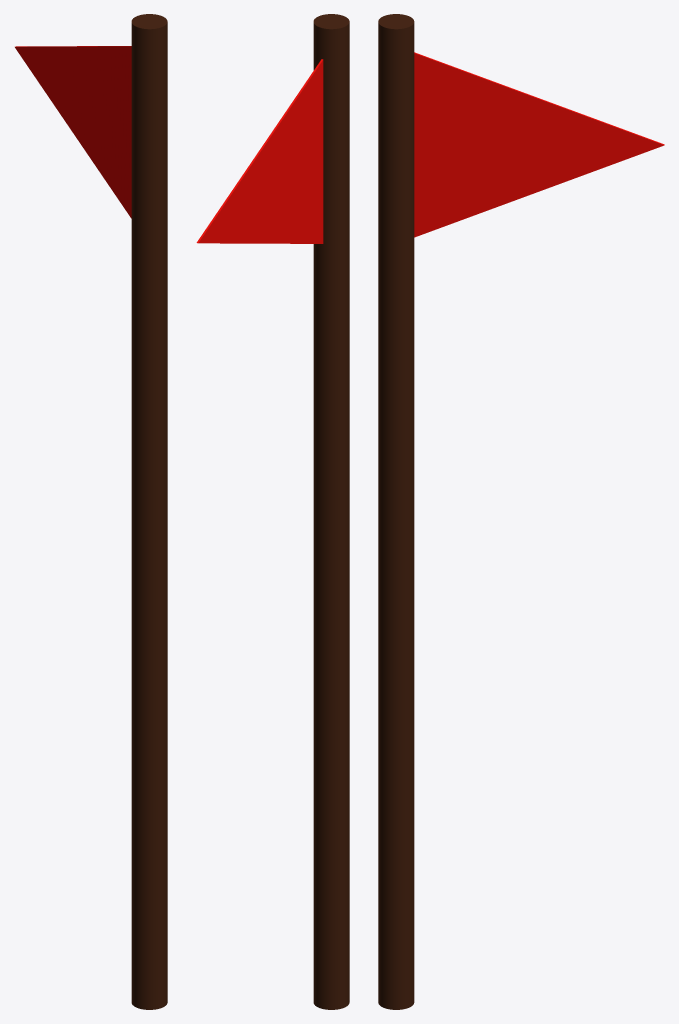
File: flag.fbx
The picture shows the model from 3 angles, left to right: view 1: azimuth 30°, elevation 25°; view 2: azimuth 150°, elevation 25°; view 3: azimuth 270°, elevation 25°; orthographic projection.
Visible parts, largest first — view 1: Cylinder, Cube; view 2: Cylinder, Cube; view 3: Cylinder, Cube.
Part boxes in pixels (x1,y1,x2,y2): Cylinder: (131, 14, 167, 1009); Cube: (15, 46, 131, 218); Cylinder: (313, 14, 349, 1009); Cube: (196, 59, 323, 243); Cylinder: (378, 14, 414, 1009); Cube: (414, 52, 664, 237).
Size of the model in its own units: 10 by 300 by 79.42.
